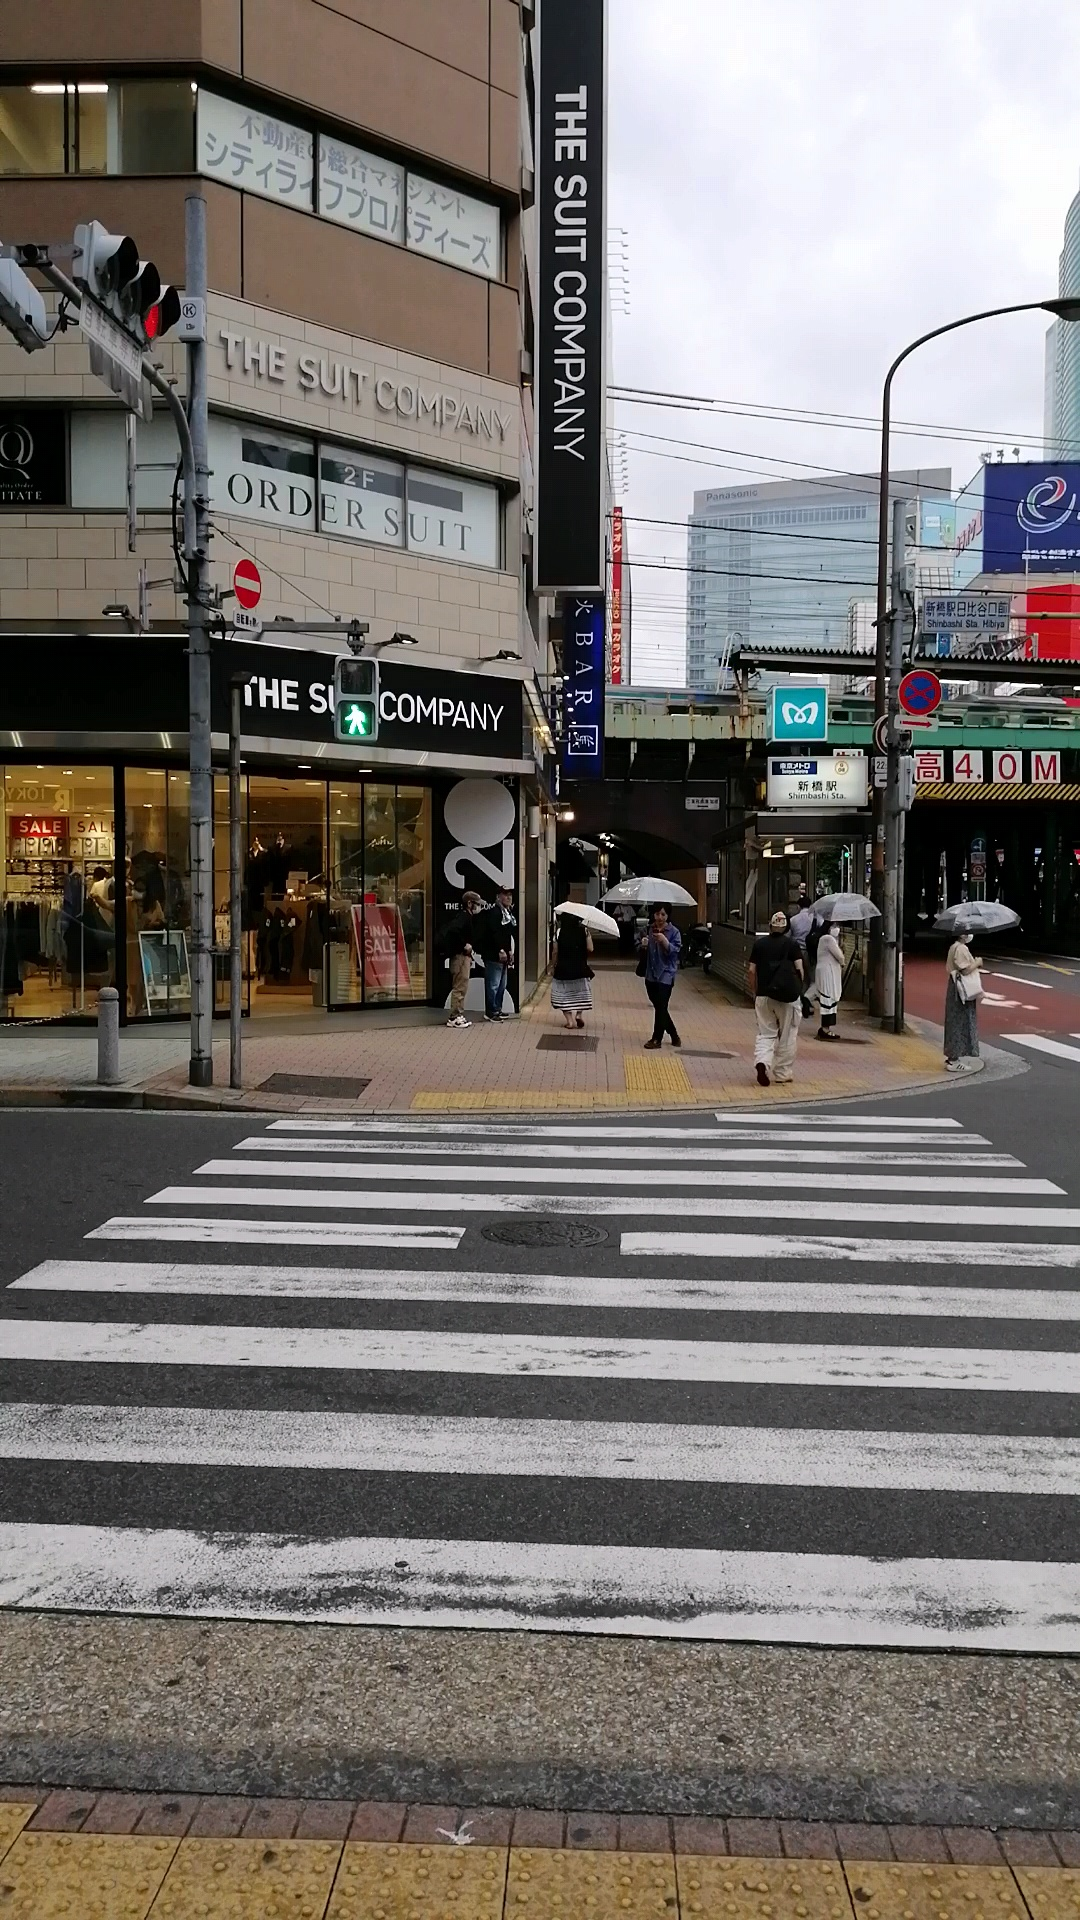green: (334, 655, 381, 744)
